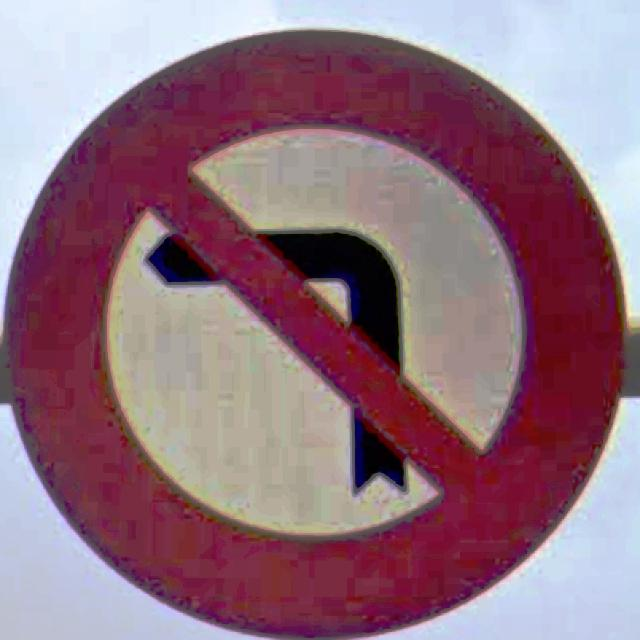noturnleft: (3, 30, 630, 640)
